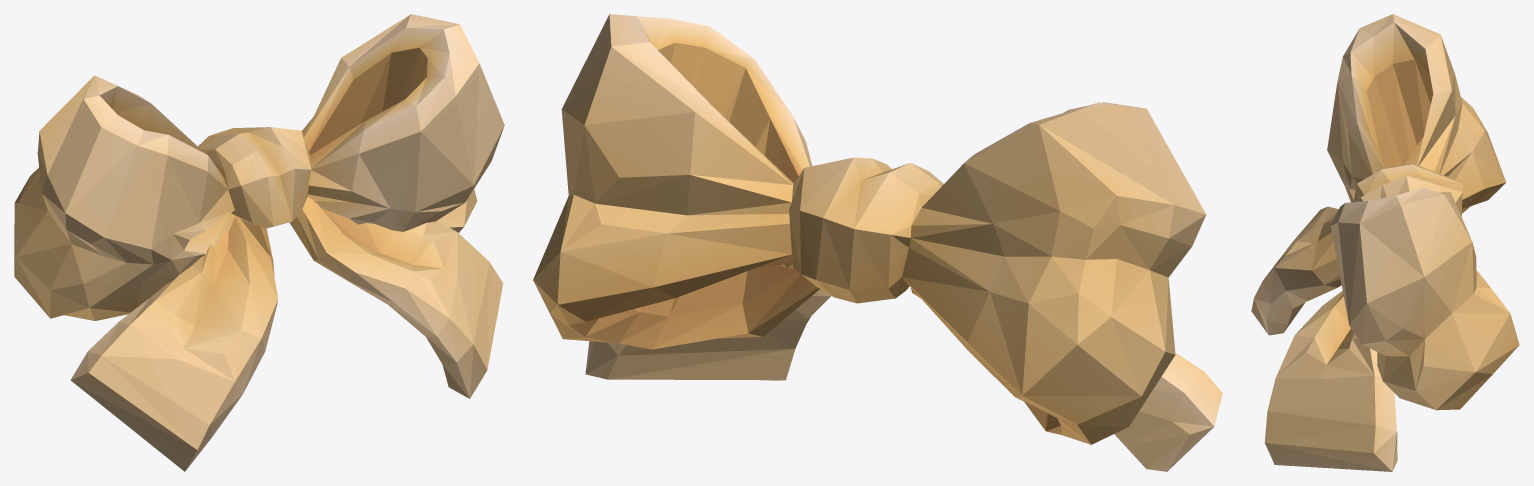
File: CharSkyKid_Hat_AP24BellRibbon.glb
3 renders of one model, left to right at view 1: azimuth 30°, elevation 25°; view 2: azimuth 150°, elevation 25°; view 3: azimuth 270°, elevation 25°, orthographic. The views are drawn at different scales.
Parts seen in each view (by area): view 1: CharSkyKid_Hat_AP24BellRibbon; view 2: CharSkyKid_Hat_AP24BellRibbon; view 3: CharSkyKid_Hat_AP24BellRibbon.
Boxes of the visible parts, left/top/right/bottom form: CharSkyKid_Hat_AP24BellRibbon: left=14, top=14, right=504, bottom=471; CharSkyKid_Hat_AP24BellRibbon: left=533, top=14, right=1222, bottom=471; CharSkyKid_Hat_AP24BellRibbon: left=1251, top=14, right=1519, bottom=471.
Size of the model in its own units: 3.07 by 2.12 by 1.69.
1 material, 1 textured.
